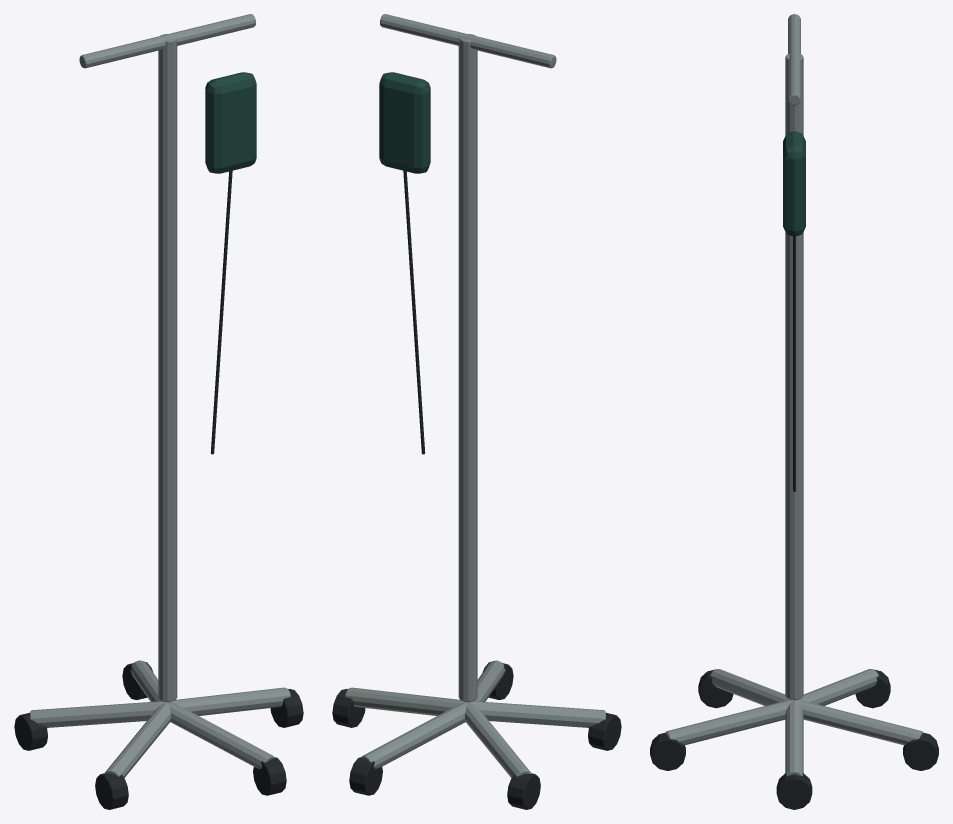
Rendered from H_IVStand.fbx.
3 renders of one model, left to right at view 1: azimuth 30°, elevation 25°; view 2: azimuth 150°, elevation 25°; view 3: azimuth 270°, elevation 25°, orthographic. The views are drawn at different scales.
Parts seen in each view (by area): view 1: H_IVStand; view 2: H_IVStand; view 3: H_IVStand.
Boxes of the visible parts, left/top/right/bottom form: H_IVStand: left=14, top=14, right=303, bottom=809; H_IVStand: left=332, top=14, right=621, bottom=809; H_IVStand: left=650, top=14, right=938, bottom=809.
Bounding box in the file's own units: 0.6229 × 1.85 × 0.6947.
